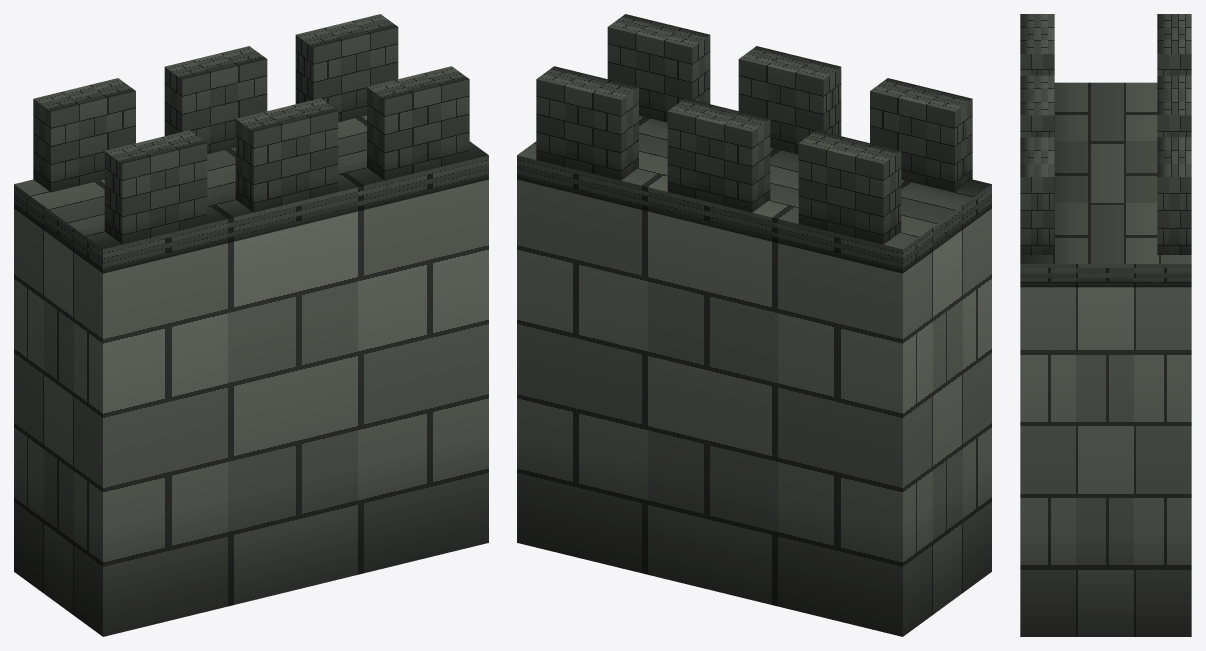
File: wall.glb
3 renders of one model, left to right at view 1: azimuth 30°, elevation 25°; view 2: azimuth 150°, elevation 25°; view 3: azimuth 270°, elevation 25°, orthographic. The views are drawn at different scales.
Parts seen in each view (by area): view 1: wall; view 2: wall; view 3: wall.
Boxes of the visible parts, x1=… form: wall: x1=14, y1=14, x2=488, y2=636; wall: x1=517, y1=14, x2=991, y2=636; wall: x1=1020, y1=14, x2=1191, y2=636.
Size of the model in its own units: 1 by 1.16 by 0.4.
Materials: 1 (1 with a texture image).
